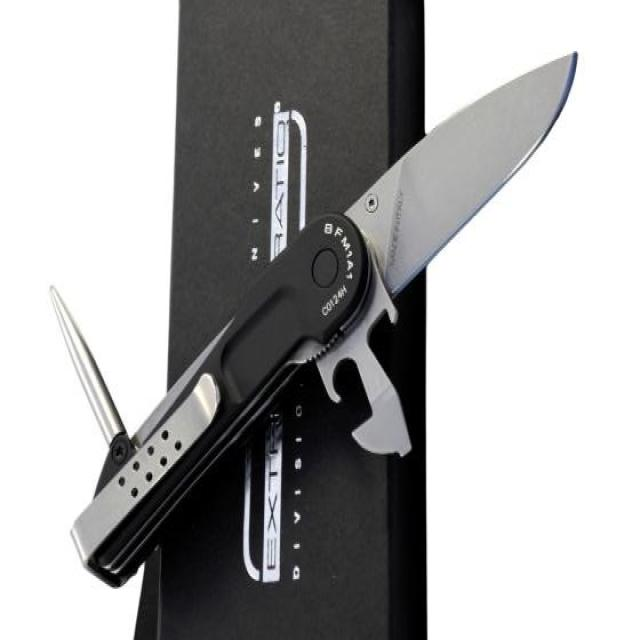knife: (33, 36, 587, 587)
